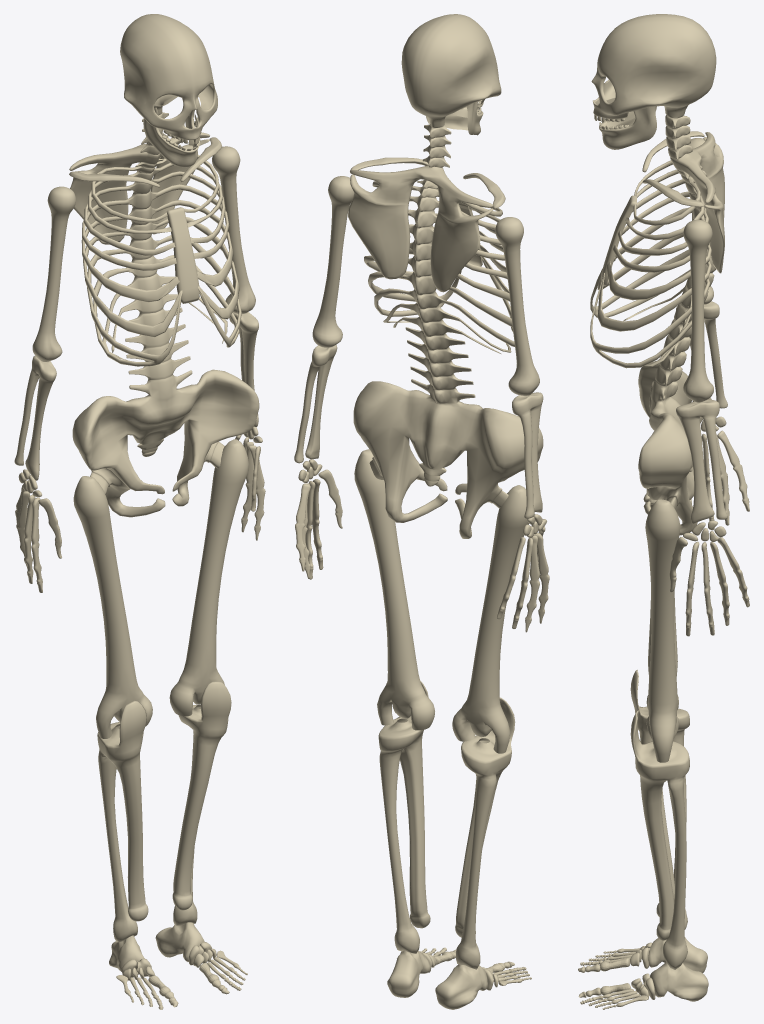
File: SKELETON_scale5_main_mesh.fbx
3 views of the same model, side by side, from view 1: azimuth 30°, elevation 25°; view 2: azimuth 150°, elevation 25°; view 3: azimuth 270°, elevation 25° (orthographic).
Visible parts, largest first — view 1: Cube; view 2: Cube; view 3: Cube.
Part boxes in pixels (bbox=[...]): Cube: bbox=[14, 14, 265, 1009]; Cube: bbox=[294, 14, 549, 1009]; Cube: bbox=[578, 14, 749, 1009].
Bounding box in the file's own units: 243 × 151 × 941.
